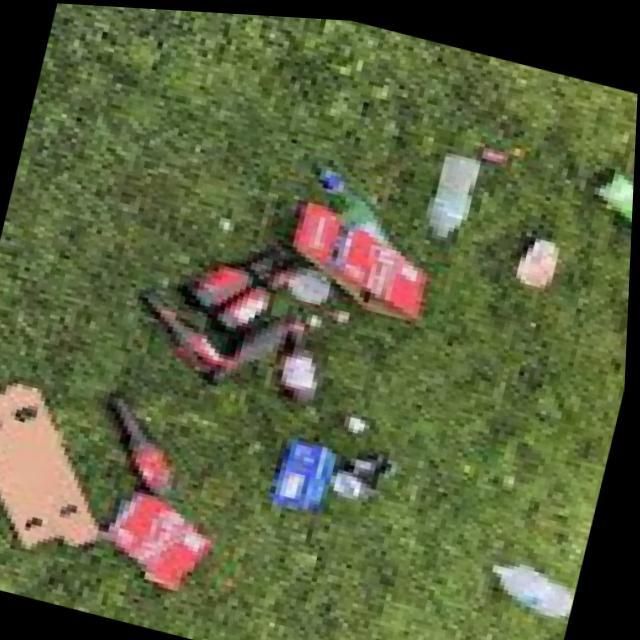clothes: (264, 424, 352, 519), (331, 422, 414, 516), (576, 148, 636, 238)
foam box: (108, 286, 272, 396), (82, 364, 212, 500), (289, 147, 420, 242), (187, 240, 307, 332), (271, 311, 355, 412)
leaf: (412, 128, 505, 244), (468, 539, 586, 621), (508, 222, 576, 294)
trash: (0, 368, 131, 572), (274, 198, 460, 326), (97, 478, 216, 606)
